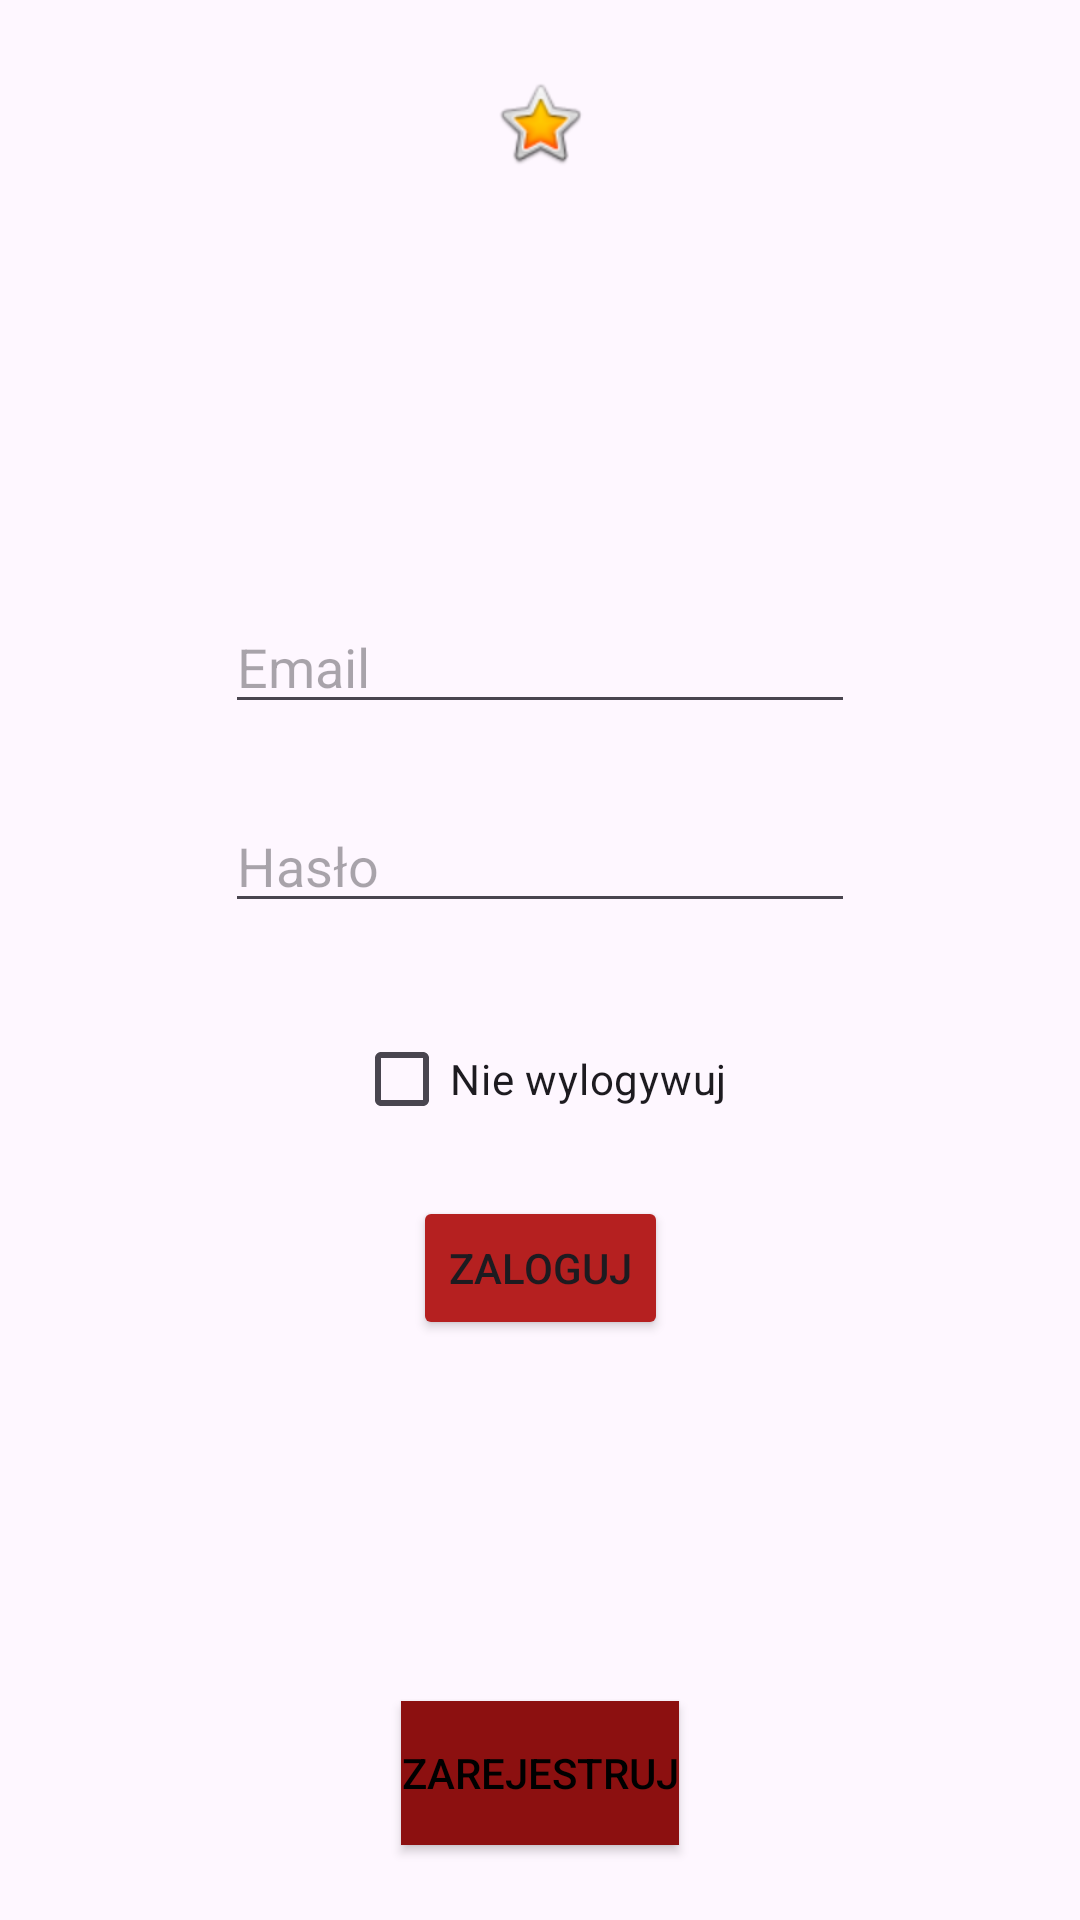

Where to tap for icons on this 1080 × 1920 app screen, as (x,y):
star on: (541,124)
